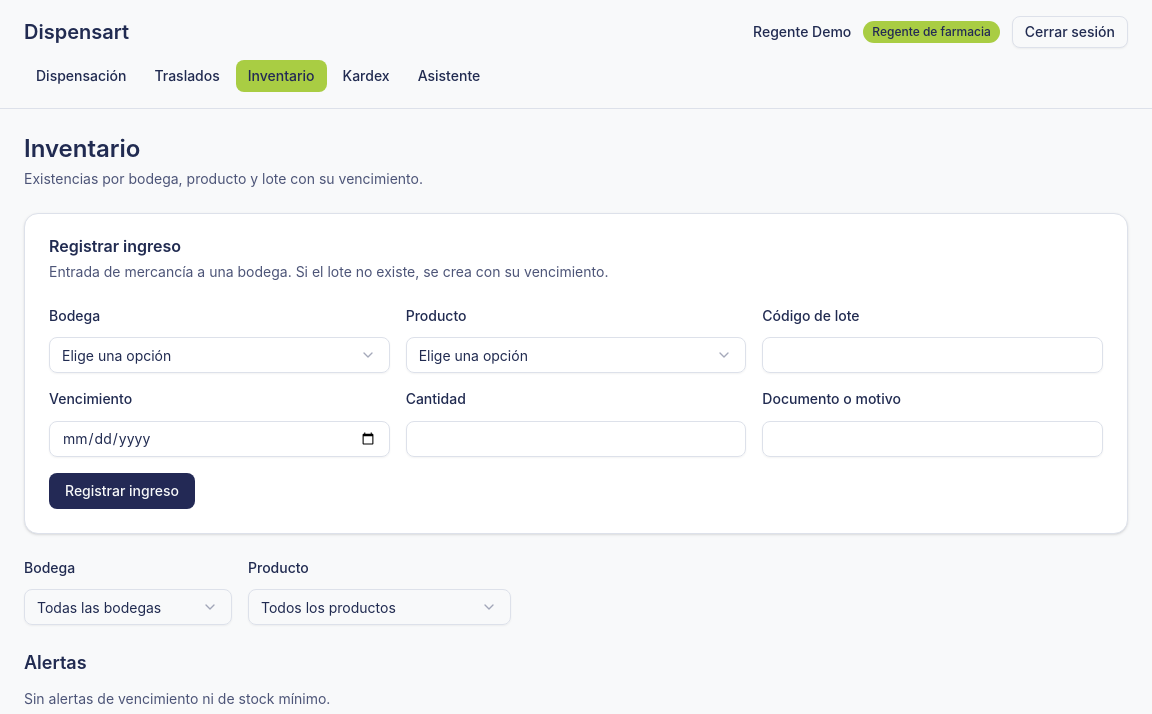
Test: formulario Registrar ingreso › Ingreso exitoso: envía los seis campos, confirma, limpia y vuelve a pedir existencias, kardex y alertas
Select "Farmacia Central" in the 1st dropdown labelled "Bodega" at (219, 355), box [49,337,390,373]
Select "ACE500 · Acetaminofén 500 mg" in the dropdown labelled "Producto" below "Código de lote" at (576, 355), box [406,337,746,373]
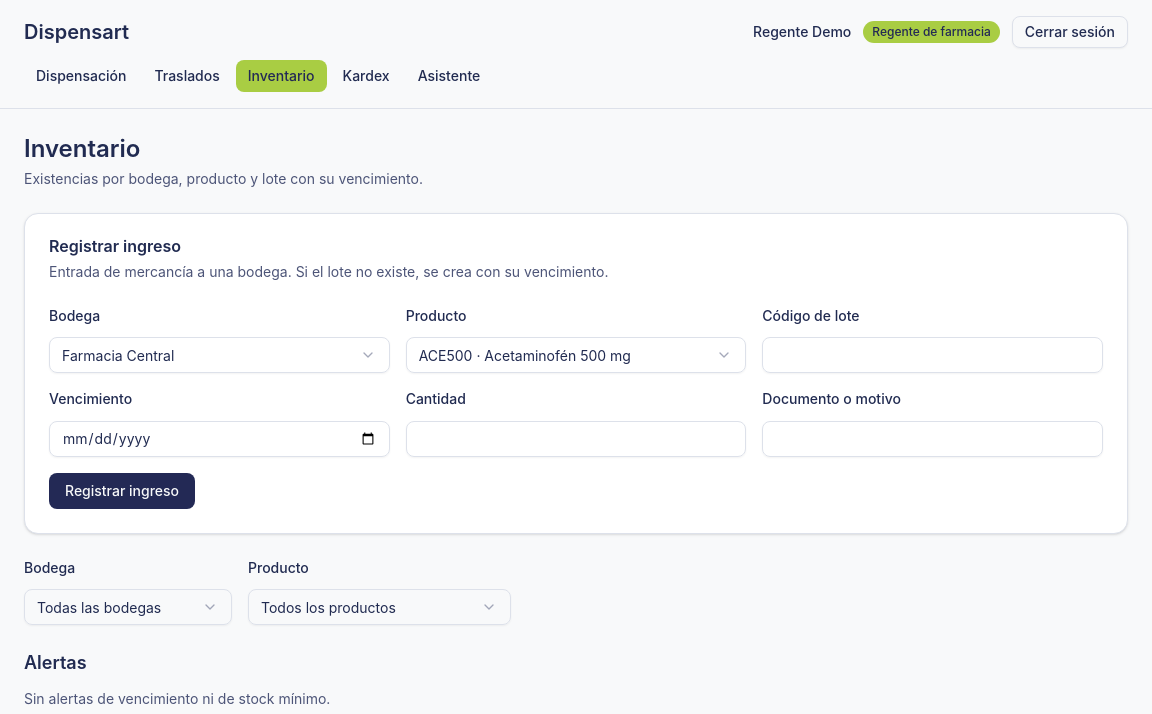
Type " ACE-NEW " into the field labelled "Código de lote" at (933, 355), box [762,337,1103,373]
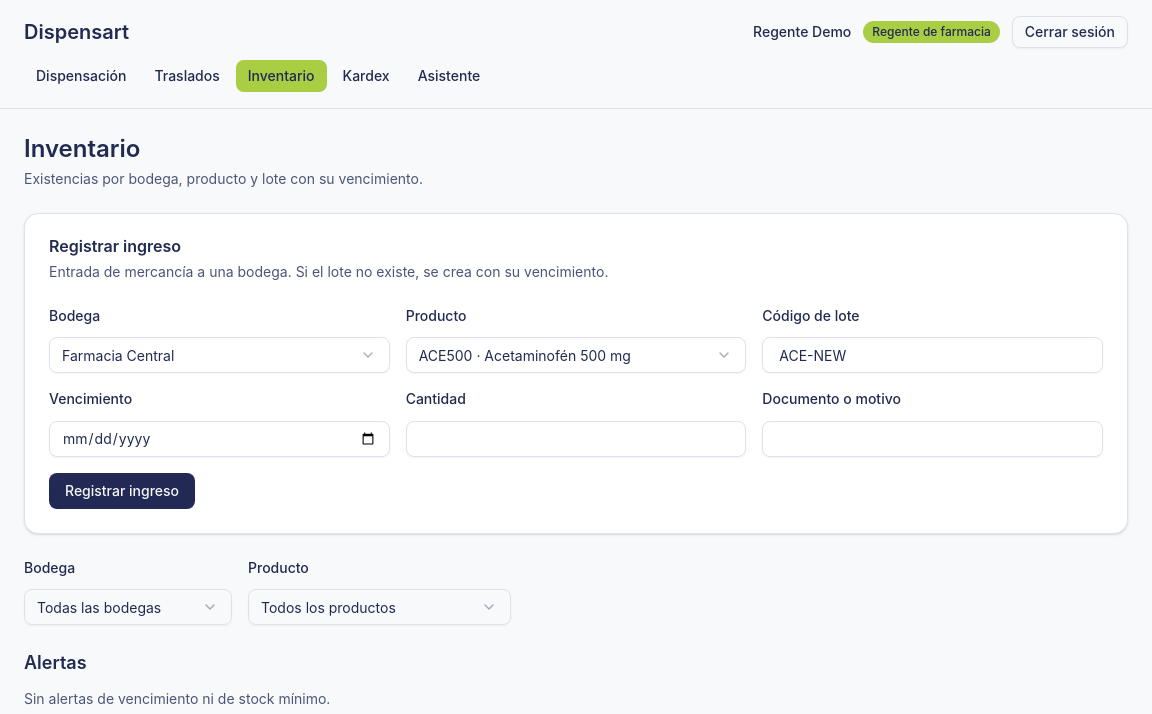
Type "2028-01-31" into the date field labelled "Vencimiento" at (219, 438), box [49,420,390,456]
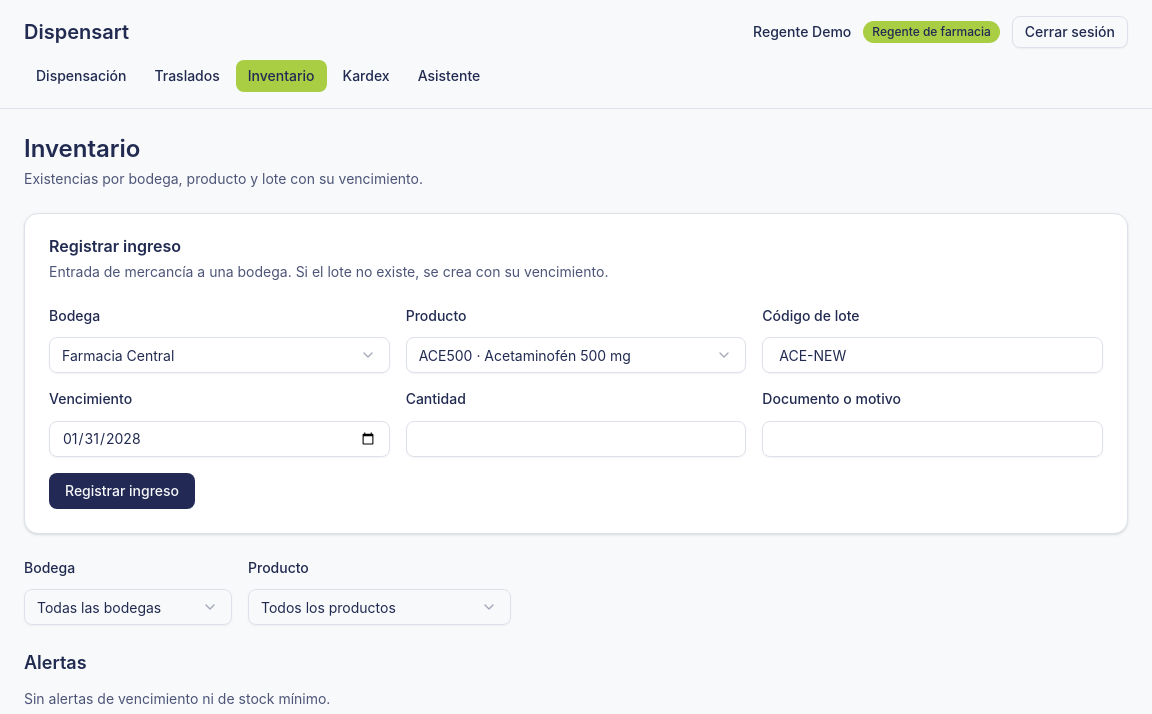
Type "25" into the field labelled "Cantidad" at (576, 438), box [406,420,746,456]
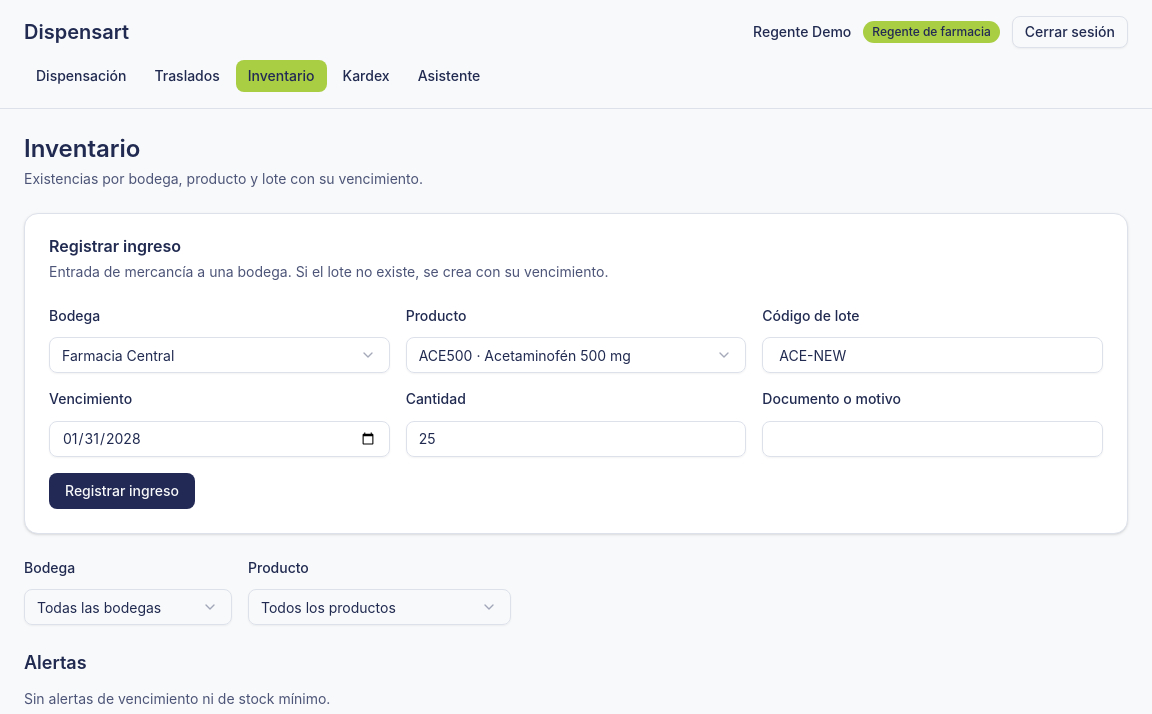
Type "Factura FAC-1" into the field labelled "Documento o motivo" at (933, 438), box [762,420,1103,456]
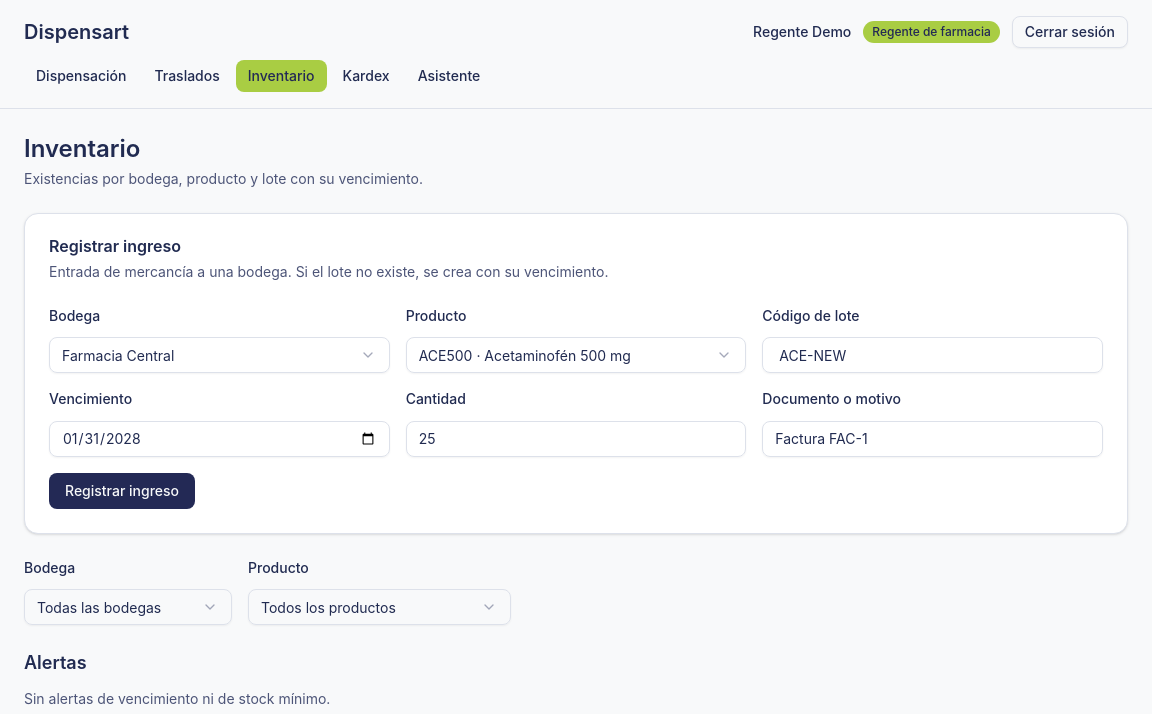
Click the button "Registrar ingreso" at (122, 490), box [49,472,195,508]
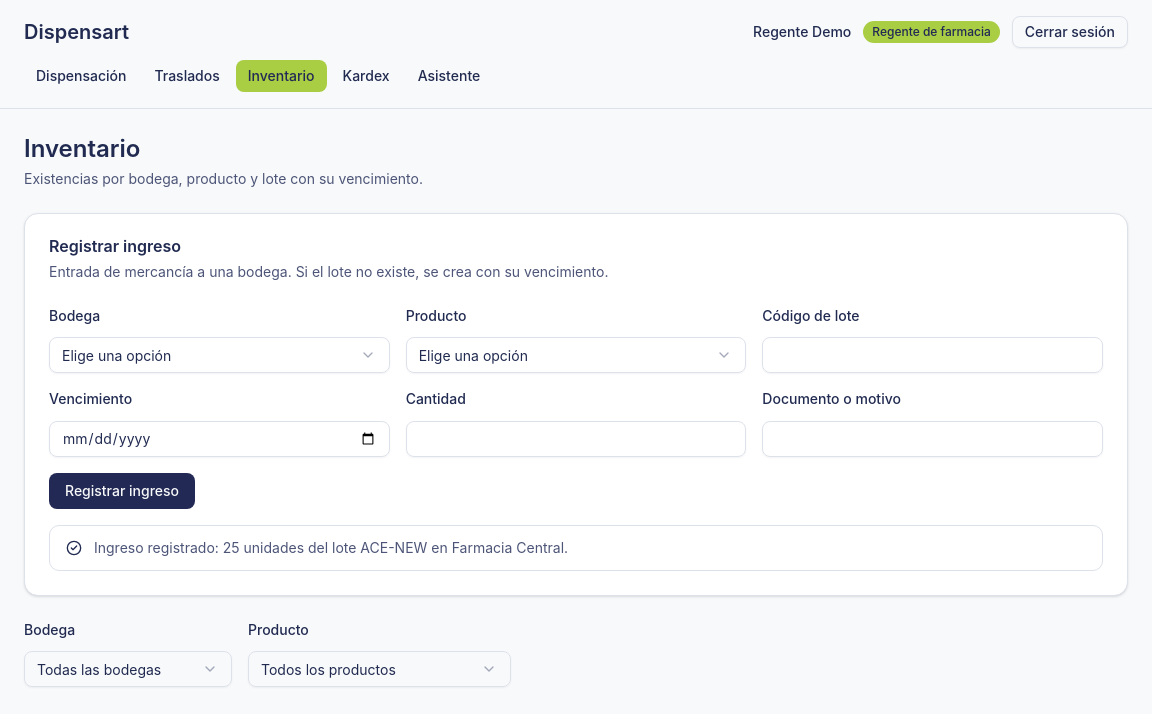
expect the text "Ingreso registrado: 25 unidades del lote ACE-NEW en Farmacia Central." is shown: met, box [94,538,568,556]
expect the field labelled "Código de lote" is empty: met, box [762,337,1103,373]
